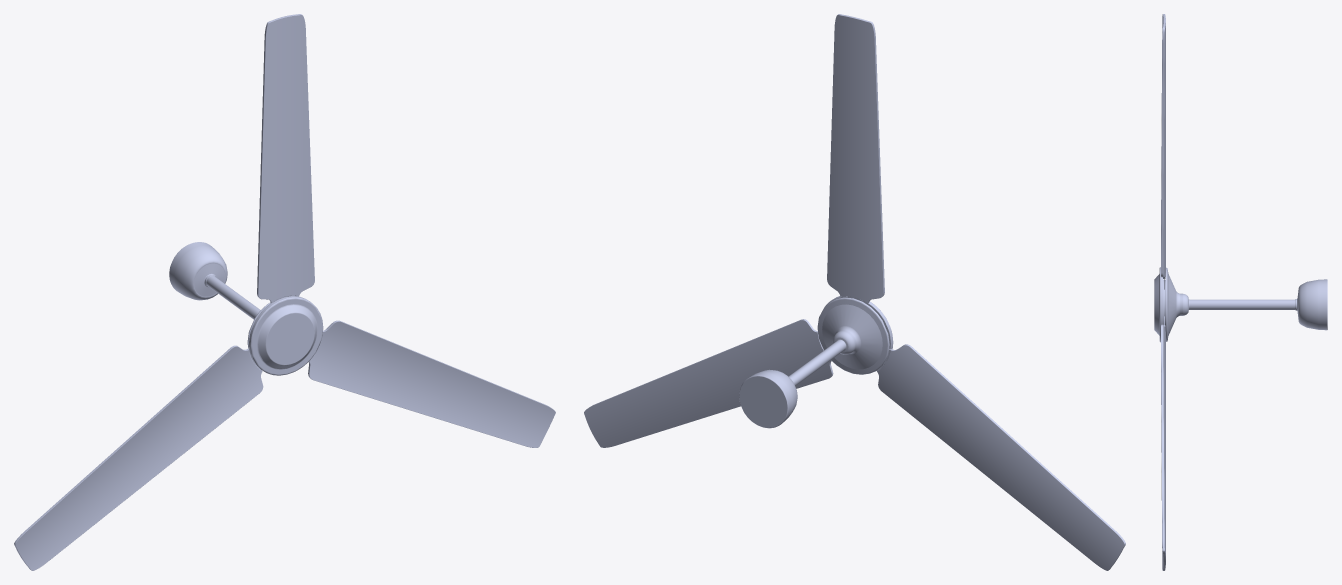
The model's file is Ceiling Fan.fbx.
The picture shows the model from 3 angles, left to right: view 1: azimuth 30°, elevation 25°; view 2: azimuth 150°, elevation 25°; view 3: azimuth 270°, elevation 25°; orthographic projection. The views are drawn at different scales.
Visible parts, largest first — view 1: CirPattern2[1], Boss-Extrude2, CirPattern2[2], Revolve3; view 2: CirPattern2[1], Boss-Extrude2, CirPattern2[2], Revolve3; view 3: Revolve3, Boss-Extrude2, CirPattern2[2].
Boxes of the visible parts, box(x1,y1,x2,y2) form: CirPattern2[1]: box(14, 345, 263, 570); Boss-Extrude2: box(257, 14, 314, 303); CirPattern2[2]: box(308, 320, 555, 447); Revolve3: box(169, 242, 323, 375); CirPattern2[1]: box(876, 344, 1125, 570); Boss-Extrude2: box(827, 14, 884, 304); CirPattern2[2]: box(584, 319, 833, 447); Revolve3: box(739, 296, 893, 428); Revolve3: box(1154, 267, 1327, 342); Boss-Extrude2: box(1161, 14, 1165, 289); CirPattern2[2]: box(1161, 316, 1165, 570).
Bounding box in the file's own units: 2.38 × 0.7374 × 2.06.
